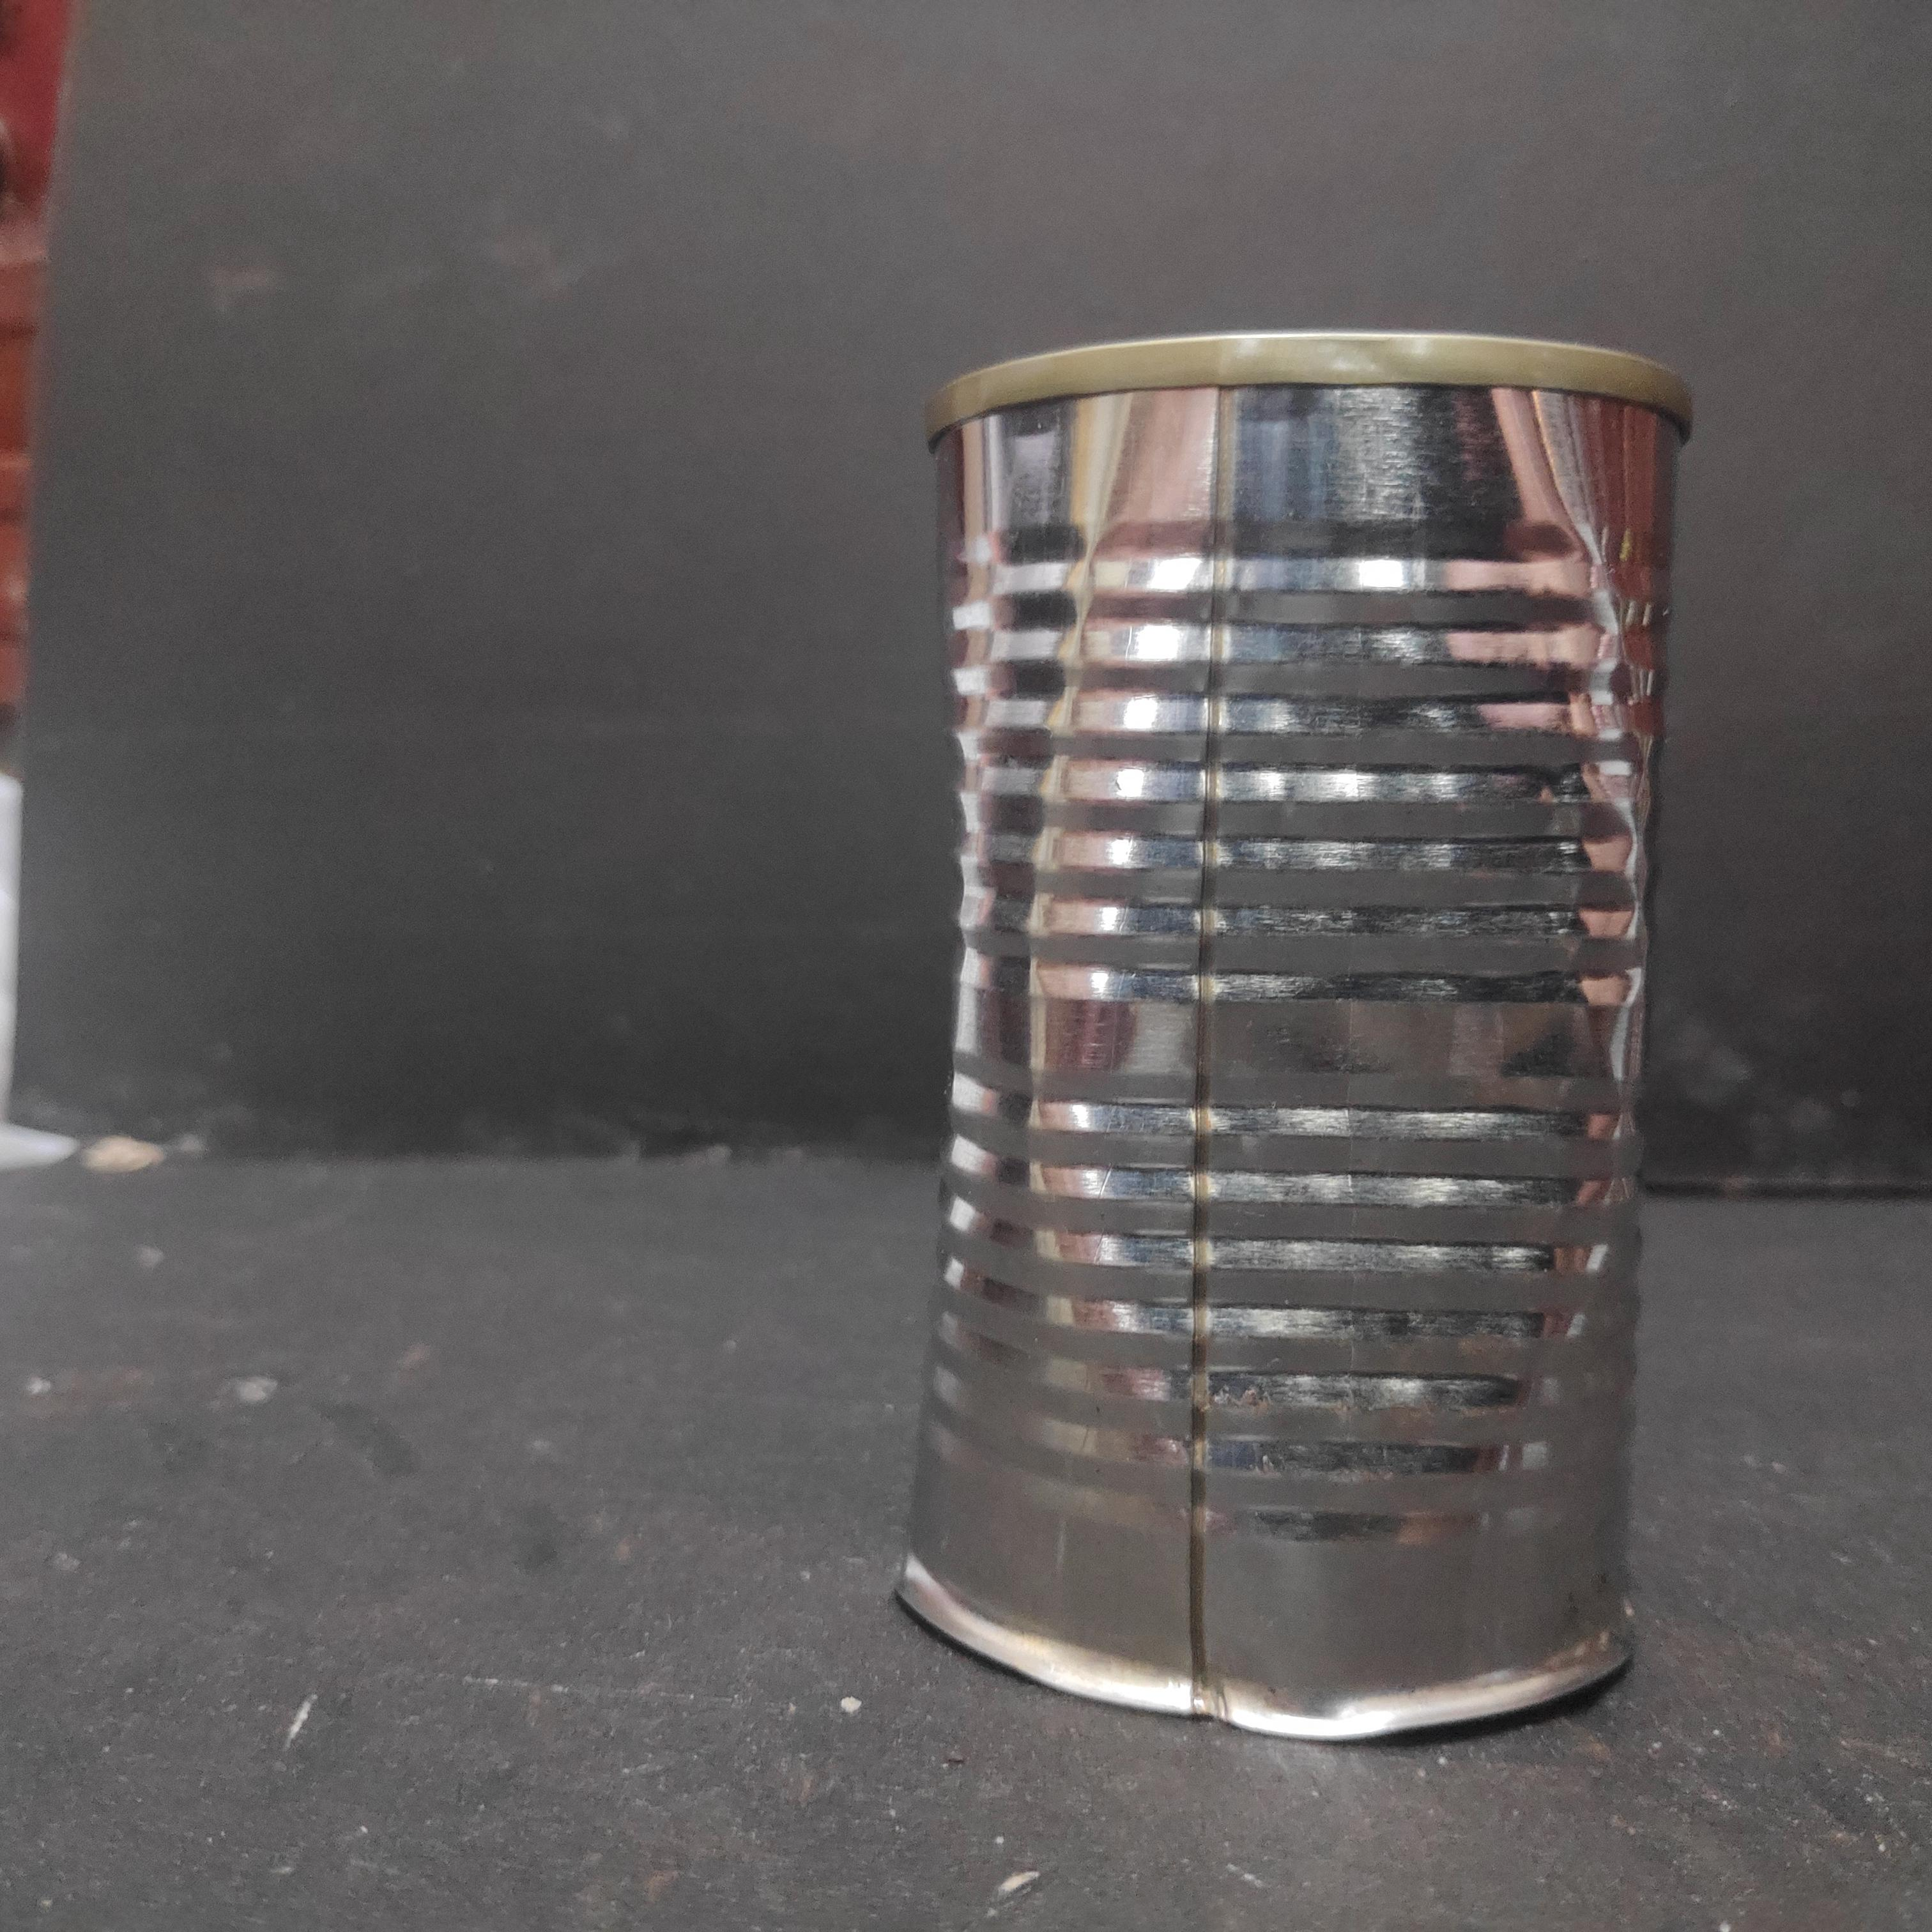Minor Defect: (890, 313, 1702, 1752)
